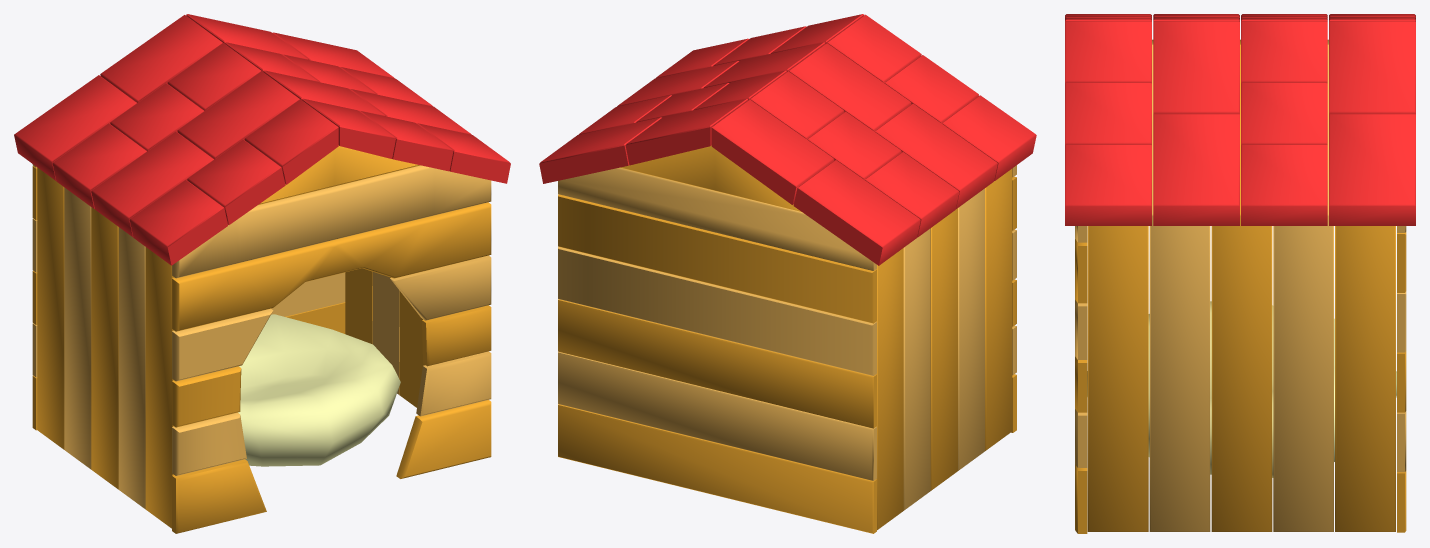
File: Kennel.fbx
3 views of the same model, side by side, from view 1: azimuth 30°, elevation 25°; view 2: azimuth 150°, elevation 25°; view 3: azimuth 270°, elevation 25° (orthographic). The views are drawn at different scales.
Parts seen in each view (by area): view 1: Kennel, Object; view 2: Kennel; view 3: Kennel, Object.
Part boxes in pixels (x1=…): Kennel: x1=14, y1=14, x2=510, y2=533; Object: x1=238, y1=314, x2=400, y2=466; Kennel: x1=539, y1=14, x2=1036, y2=533; Kennel: x1=1065, y1=14, x2=1415, y2=533; Object: x1=1087, y1=301, x2=1396, y2=477.
Size of the model in its own units: 135 by 141 by 104.
